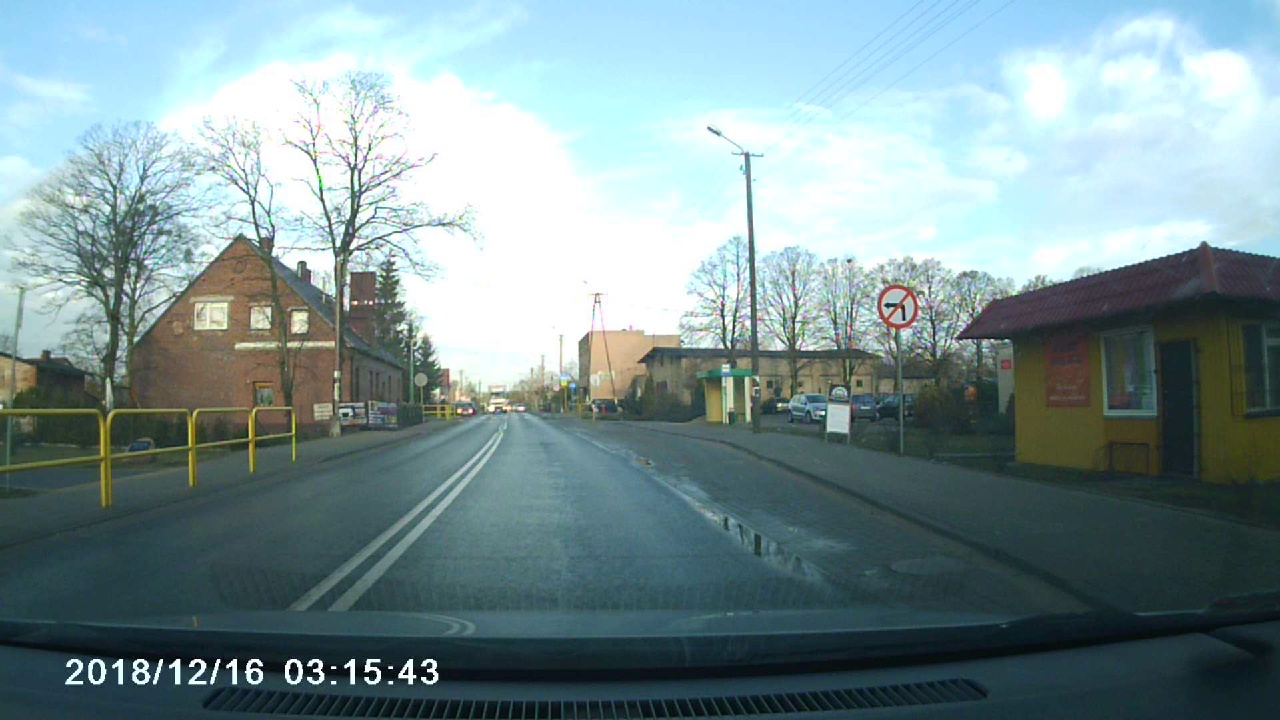B21: (875, 280, 923, 328)
